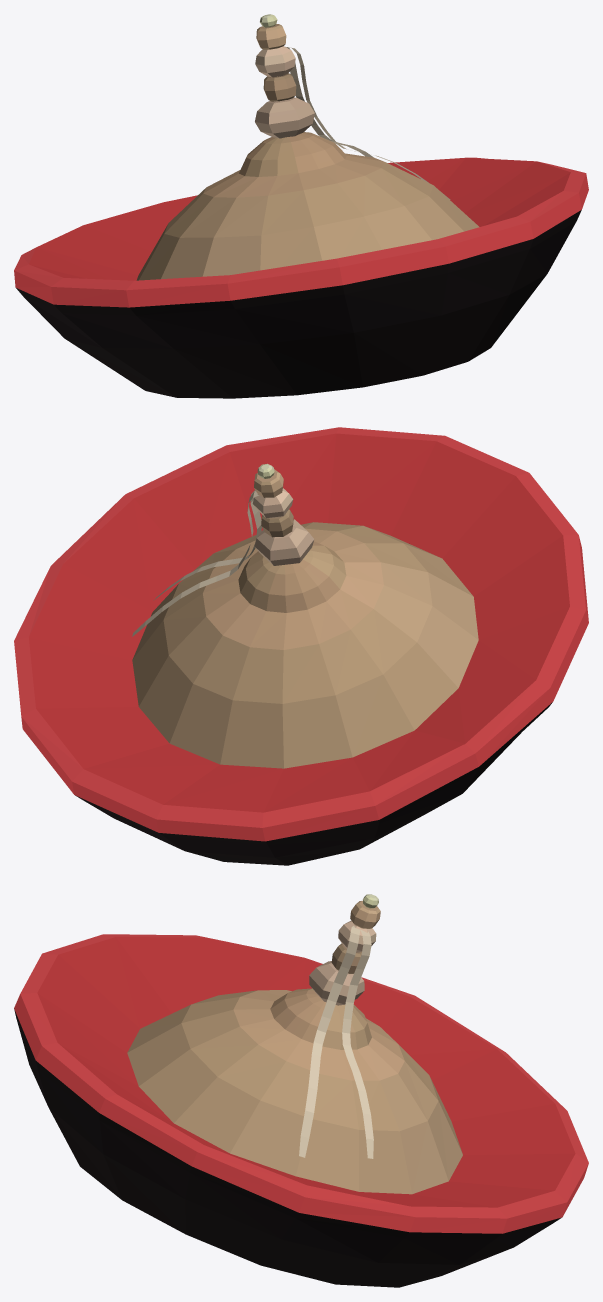
The model's file is qingDynastyEmperorHatFemale.glb.
3 views of the same model, one above another, from view 1: azimuth 30°, elevation 25°; view 2: azimuth 150°, elevation 25°; view 3: azimuth 270°, elevation 25° (orthographic).
Parts seen in each view (by area): view 1: qingDynastyEmperorHat; view 2: qingDynastyEmperorHat; view 3: qingDynastyEmperorHat.
Boxes of the visible parts, x1,y1,x2,y2 form: qingDynastyEmperorHat: (14,14,588,398); qingDynastyEmperorHat: (14,427,588,865); qingDynastyEmperorHat: (14,894,588,1287).
Size of the model in its own units: 0.4259 by 0.2968 by 0.4314.
